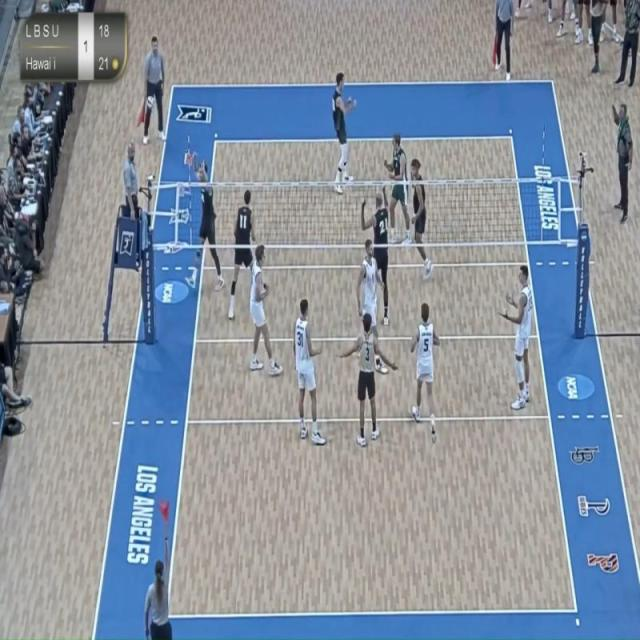volleyball: (143, 89, 157, 114)
